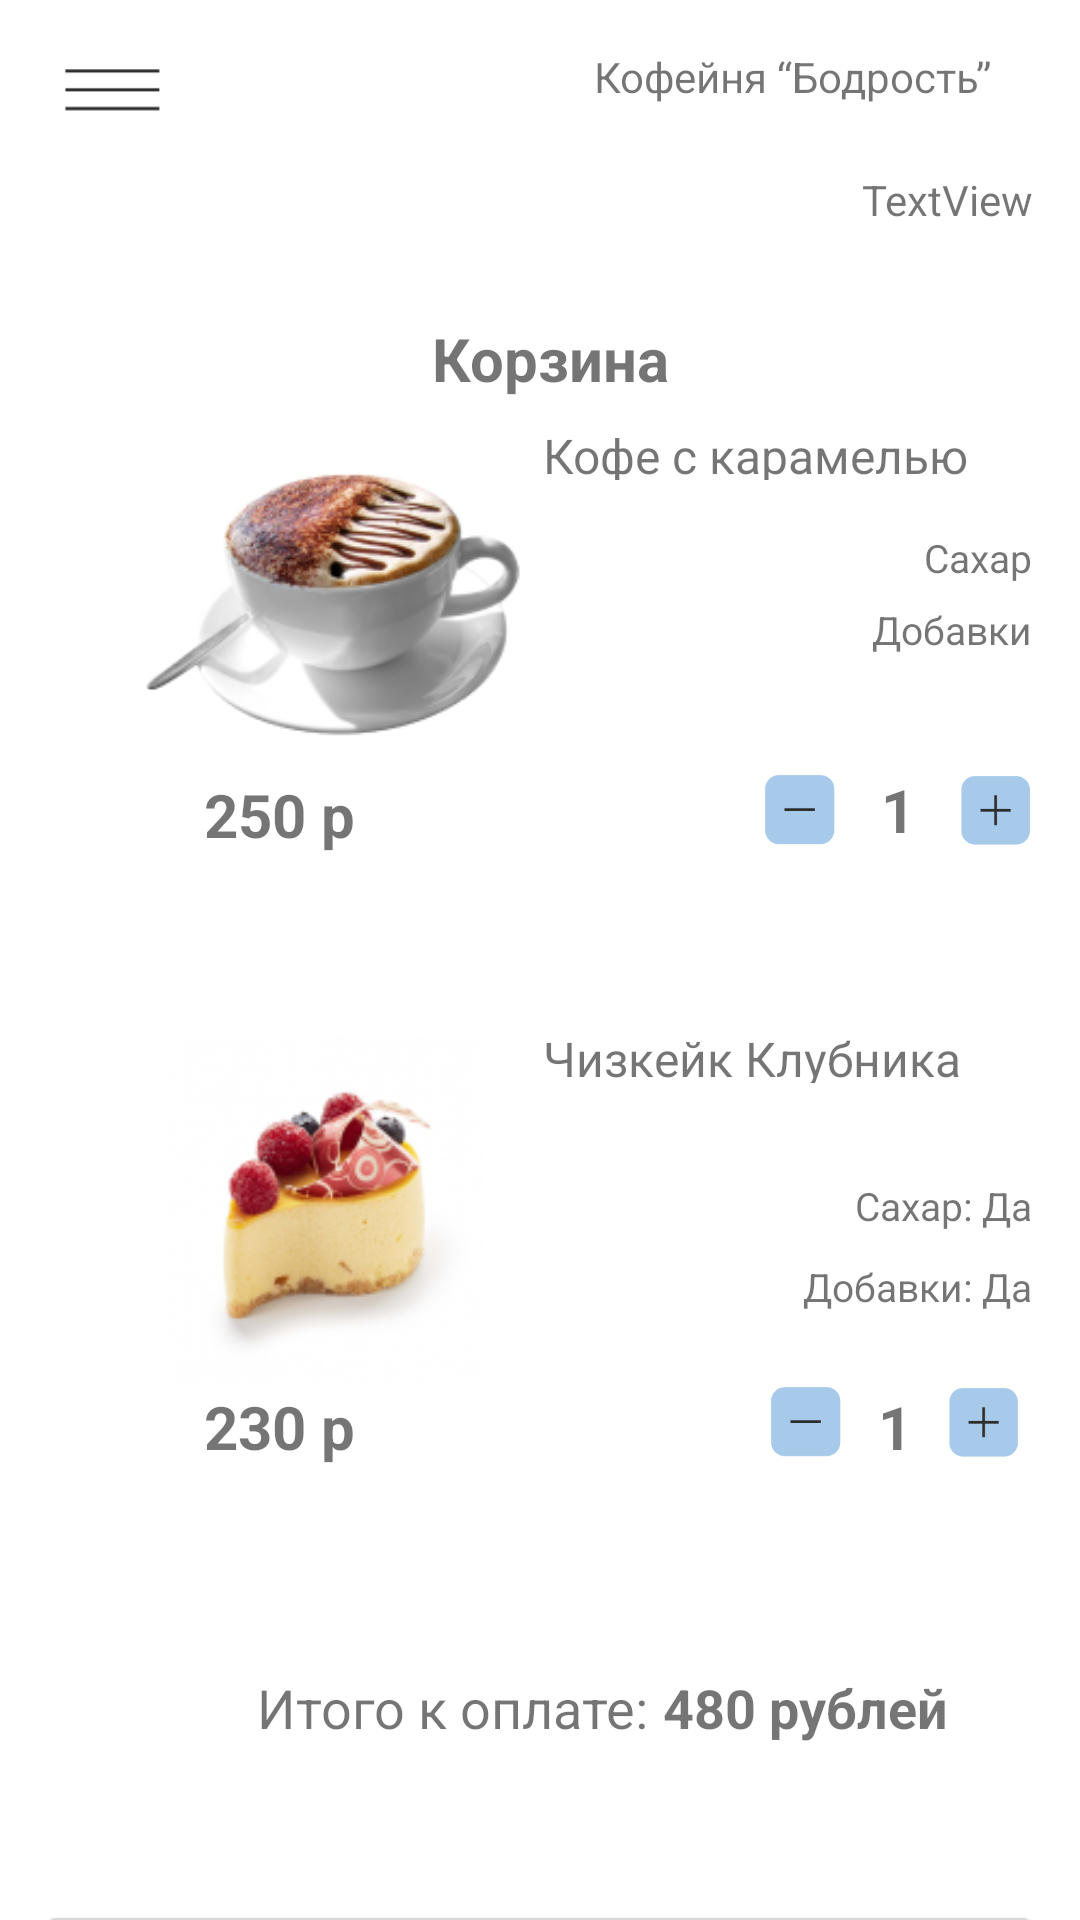

Screen size 1080×1920. Icon name, then its center in pixels as point (x, y):
buttonburger: point (112, 90)
cake: point (326, 1215)
minus: point (800, 809), point (806, 1421)
plus: point (995, 810), point (983, 1422)
